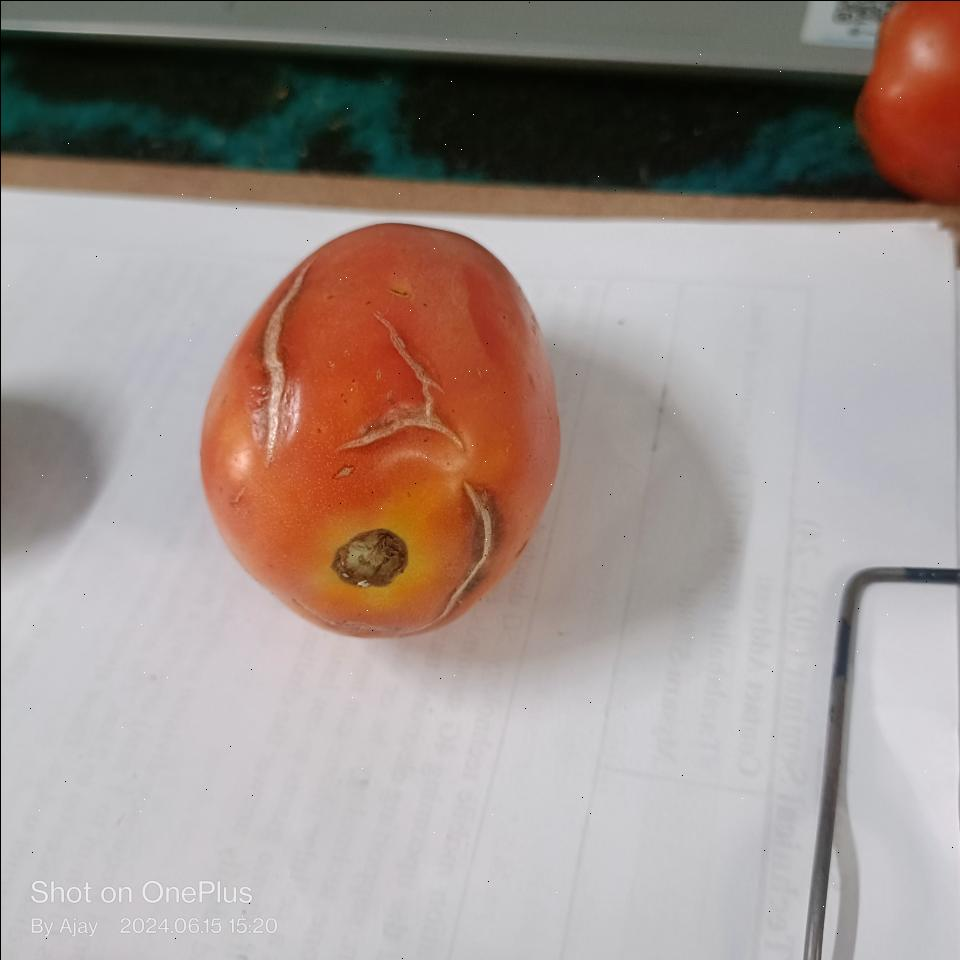Cracking: (329, 304, 476, 459), (251, 258, 320, 474), (422, 475, 503, 623)
